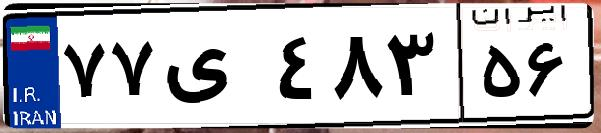3: (385, 28, 445, 110)
4: (270, 28, 330, 110)
5: (475, 38, 525, 113)
6: (525, 38, 570, 115)
7: (57, 26, 110, 100), (110, 28, 158, 98)
8: (330, 28, 385, 110)
ی: (158, 20, 270, 120)
